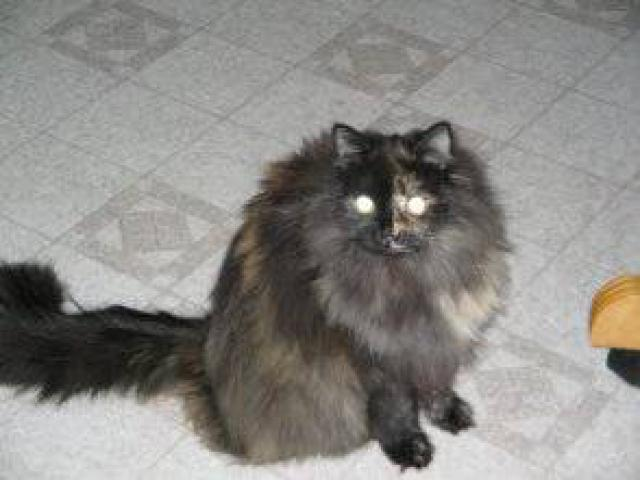cat: (200, 121, 517, 464)
